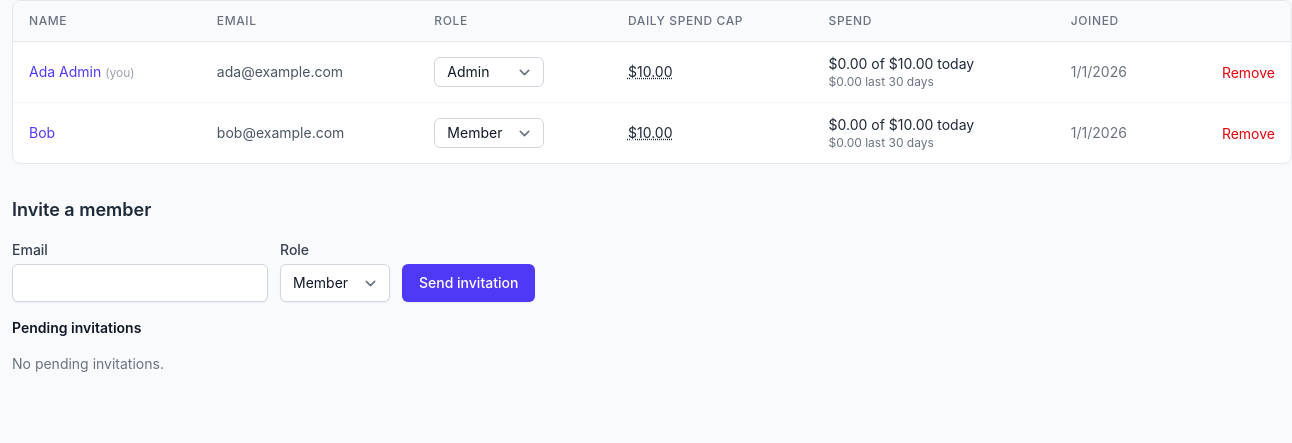
Scenario: PeopleManager › shows an error when removal fails
This screenshot has width=1292, height=443.
Click the button "Remove" in the row of "Ada Admin": (1248, 73) [1222, 63, 1275, 83]
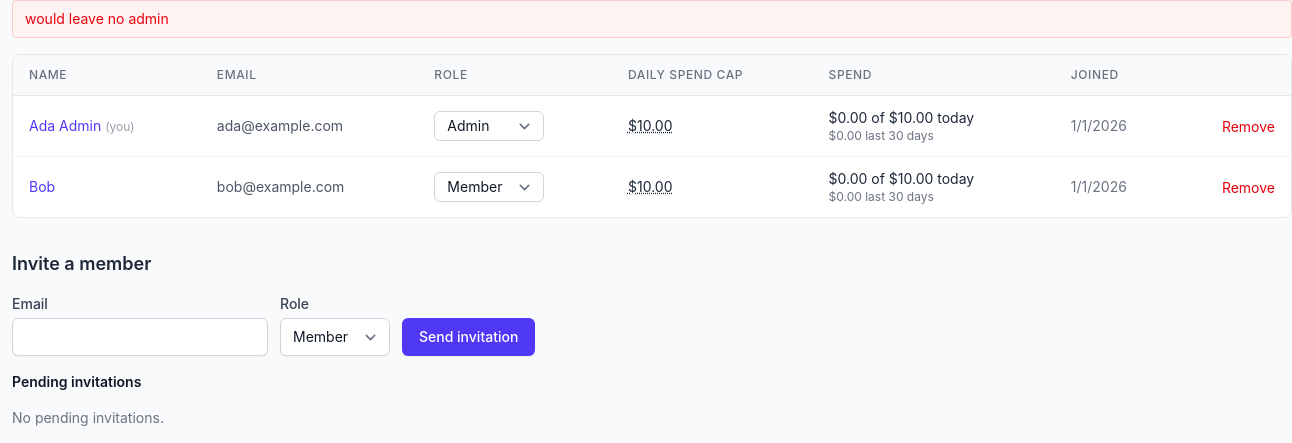
Expected: the link "Ada Admin" is shown, [29, 117, 101, 134]
Expected: the message reads "would leave no admin", [25, 10, 169, 27]
